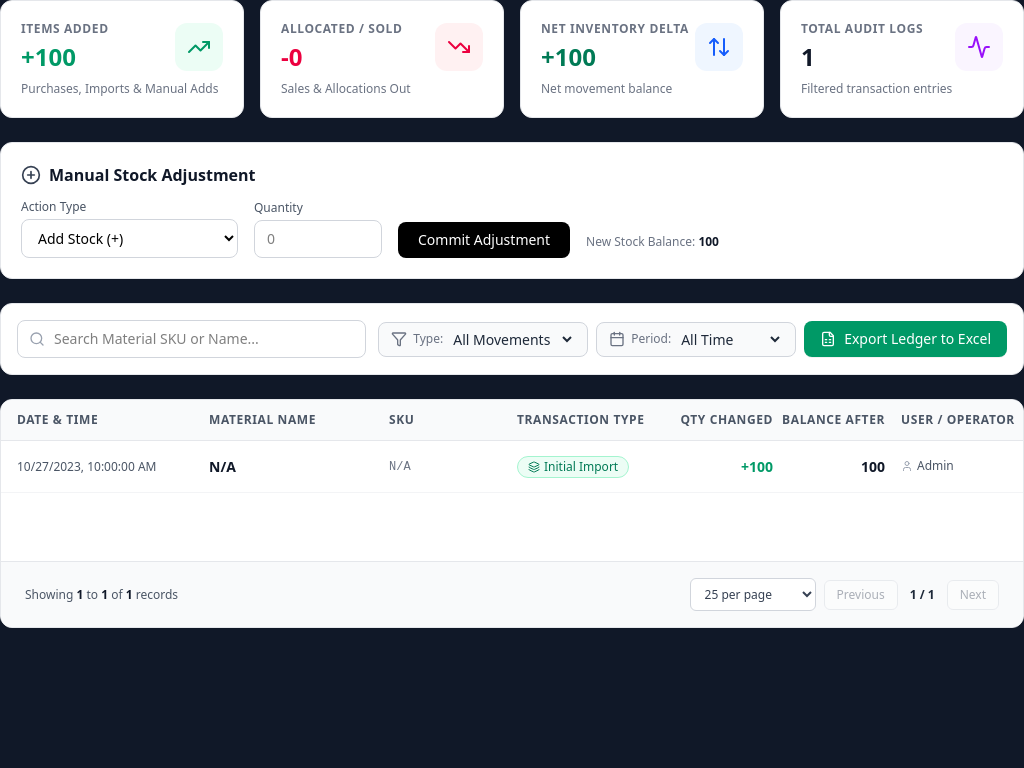
Test: StockLedger › calculates the preview correctly
This screenshot has width=1024, height=768.
Select "Add Stock (+)" in the dropdown with test id "adjust-type" at (130, 238), box [21,219,238,258]
Type "30" into the number field with test id "adjust-amount" at (318, 239), box [254,220,382,258]
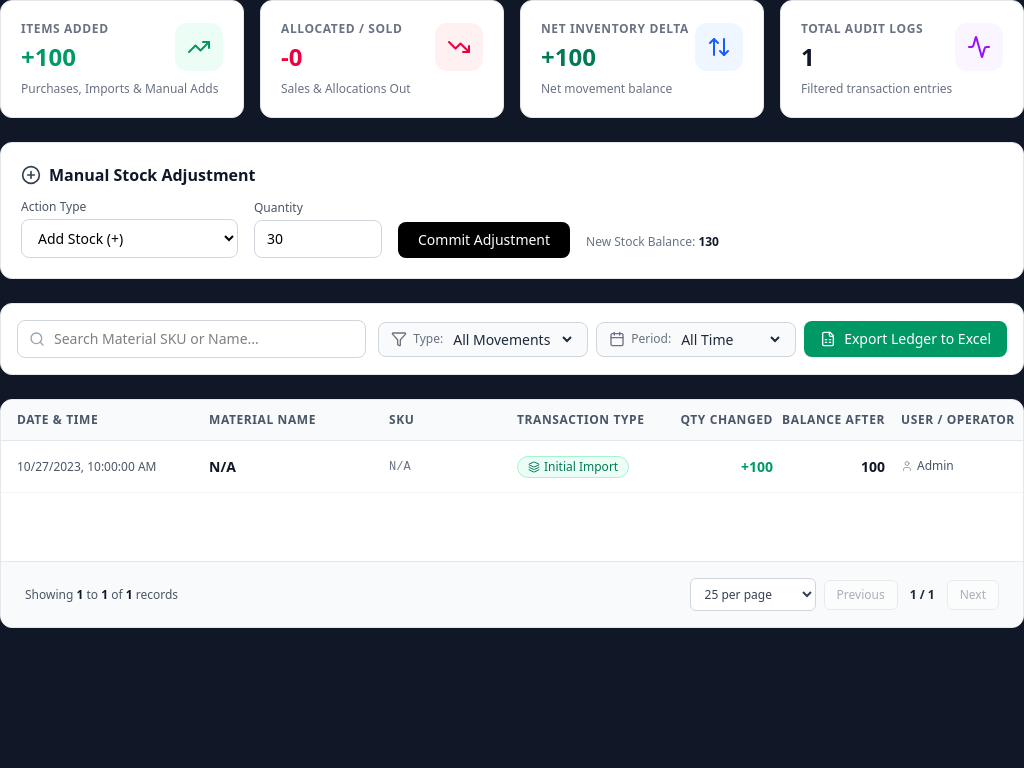
Expected: the element with test id "preview-calc" reads "New Stock Balance: 130", [586,234,719,258]
Select "Subtract / Deduct Stock (-)" in the dropdown with test id "adjust-type" at (130, 238), box [21,219,238,258]
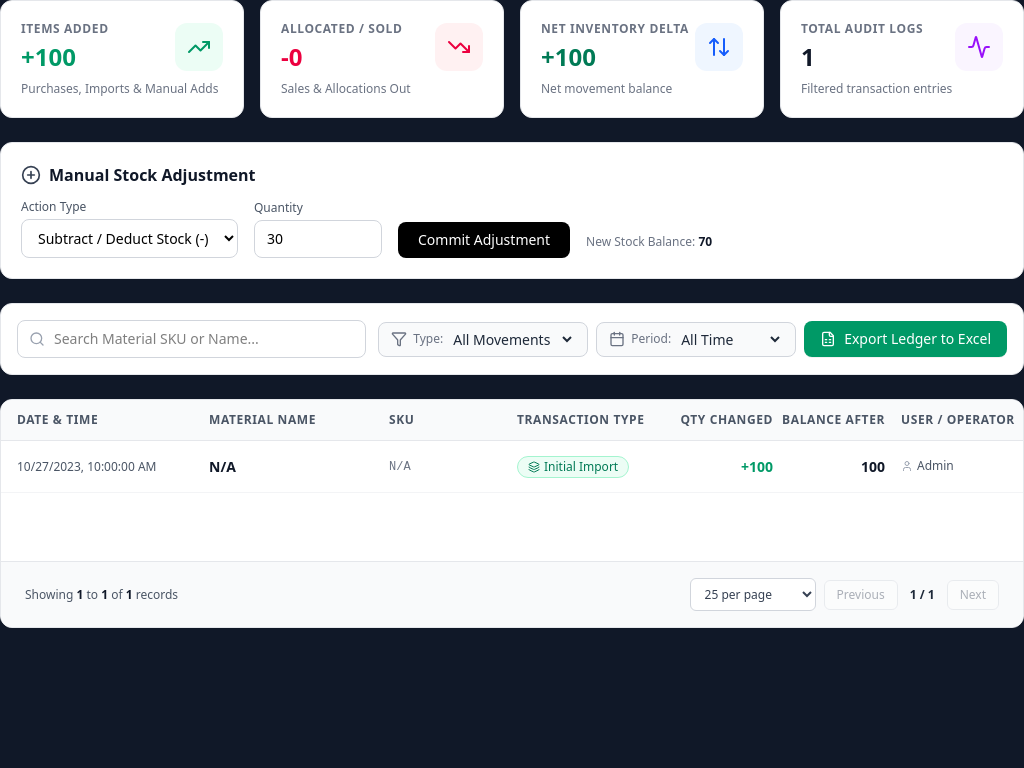
Expected: the element with test id "preview-calc" reads "New Stock Balance: 70", [586,234,712,258]
